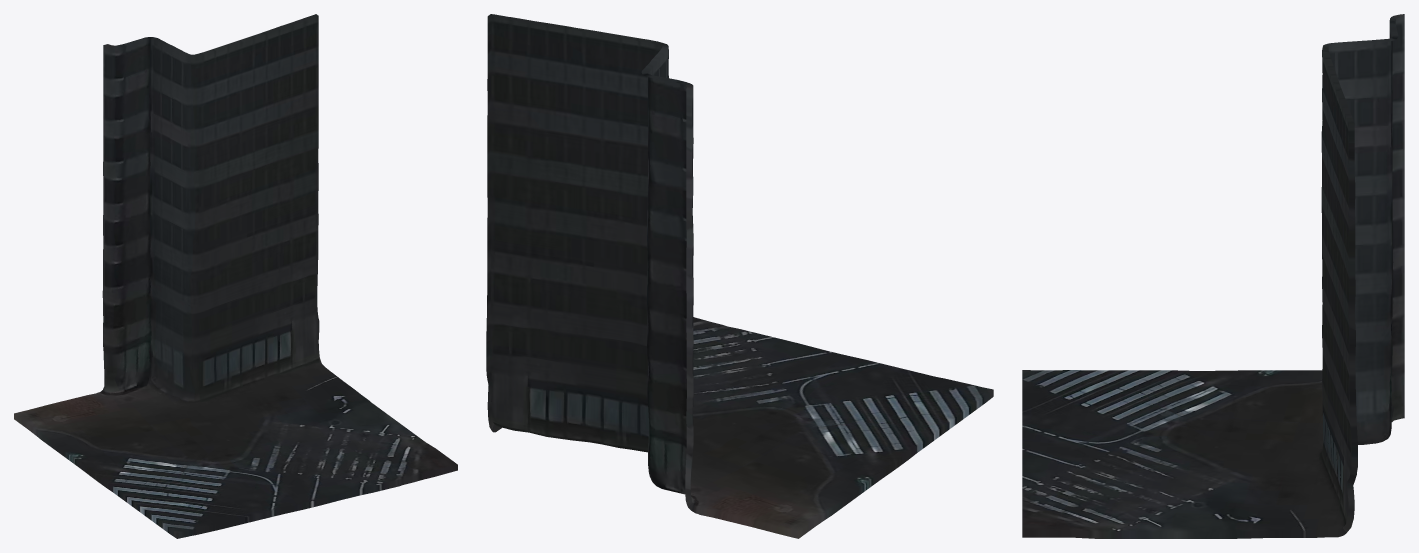
The model's file is z20-167776-405234-h0-yup-uvflip-v3-world.glb.
3 renders of one model, left to right at view 1: azimuth 30°, elevation 25°; view 2: azimuth 150°, elevation 25°; view 3: azimuth 270°, elevation 25°, orthographic. The views are drawn at different scales.
Bounding box in the file's own units: 30.16 × 36.36 × 30.32.
1 material, 1 textured.
